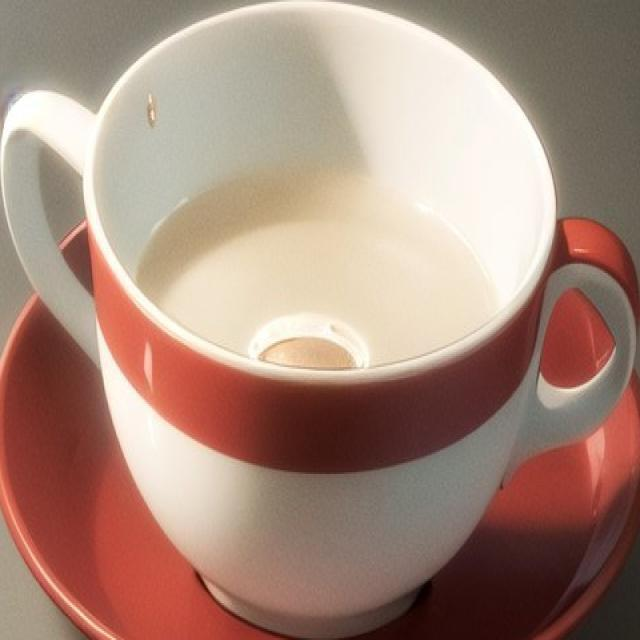cup: (10, 7, 639, 640)
